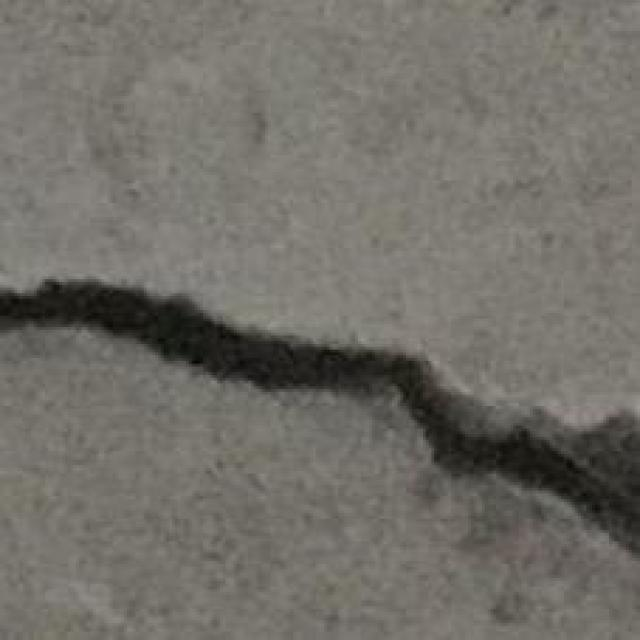Diagonal: (0, 276, 640, 556)
